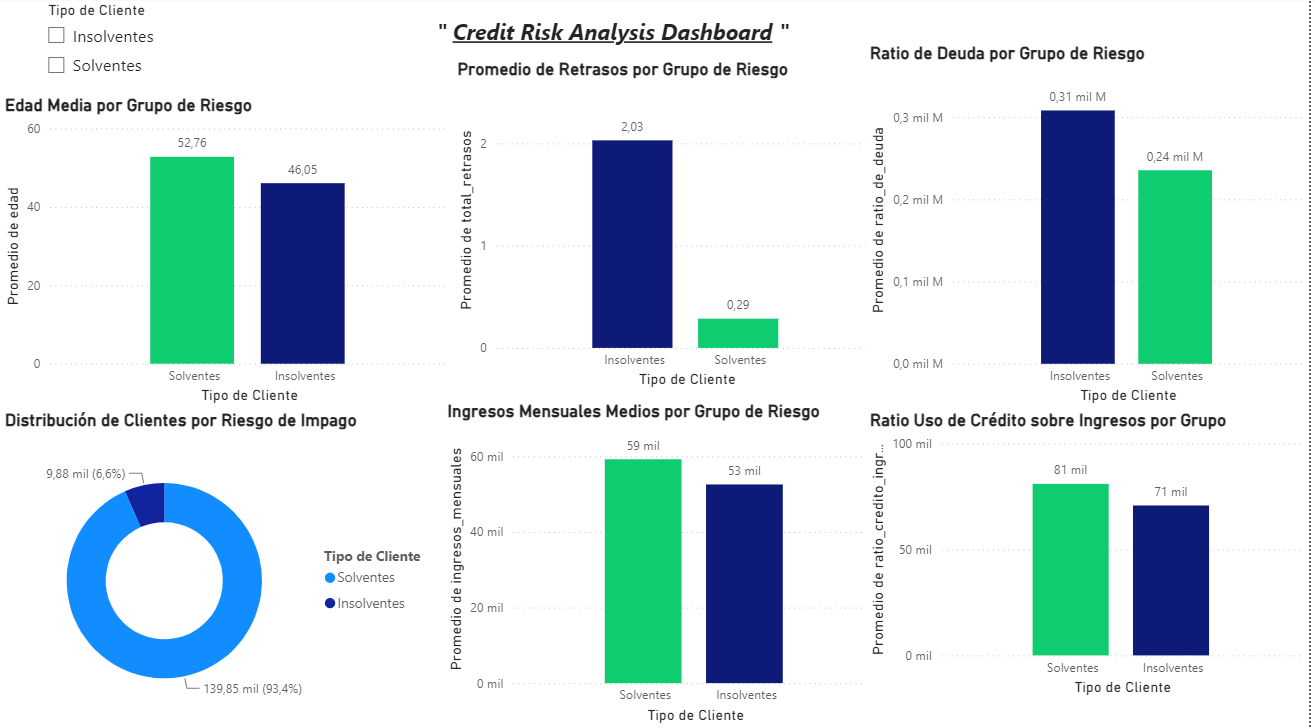

The dashboard page shown, as its layout file describes it:
{"tool":"powerbi","page":{"name":"Página 1","canvas":[1280,720],"ordinal":0},"visuals":[{"type":"donutChart","title":"Distribución de Clientes por Riesgo de Impago","fields":{"Category":["cs-training-features.Tipo de Cliente"],"Y":["CountNonNull(cs-training-features.problemas_de_pago)"]},"box":[0,404.3,432.9,315.7],"z":0},{"type":"clusteredColumnChart","title":"Edad Media por Grupo de Riesgo","fields":{"Y":["Avg(cs-training-features.edad)"],"Category":["cs-training-features.Tipo de Cliente"]},"box":[0,97.1,444.3,307.1],"z":1000},{"type":"clusteredColumnChart","title":"Promedio de Retrasos por Grupo de Riesgo","fields":{"Category":["cs-training-features.Tipo de Cliente"],"Y":["Avg(cs-training-features.total_retrasos)"]},"box":[442.9,61.4,421.4,327.1],"z":2000},{"type":"clusteredColumnChart","title":"Ingresos Mensuales Medios por Grupo de Riesgo","fields":{"Category":["cs-training-features.Tipo de Cliente"],"Y":["Avg(cs-training-features.ingresos_mensuales)"]},"box":[432.9,395.7,431.4,320],"z":3000},{"type":"clusteredColumnChart","title":"Ratio de Deuda por Grupo de Riesgo","fields":{"Category":["cs-training-features.Tipo de Cliente"],"Y":["Avg(cs-training-features.ratio_de_deuda)"]},"box":[845.7,45.7,434.3,358.6],"z":4000},{"type":"columnChart","title":"Ratio Uso de Crédito sobre Ingresos por Grupo","fields":{"Category":["cs-training-features.Tipo de Cliente"],"Y":["Avg(cs-training-features.ratio_credito_ingresos)"]},"box":[845.7,404.3,434.3,284.3],"z":5000},{"type":"textbox","box":[408.6,14.3,381.4,47.1],"z":6000},{"type":"slicer","fields":{"Values":["cs-training-features.Tipo de Cliente"]},"box":[34.3,0,240,87.1],"z":6001}]}

Visuals, with their boxes in screenshot pixels (x1, y1, x2, y2), scaled from the page's 1280x720 canvas onto the 1315x728 screenshot:
"Distribución de Clientes por Riesgo de Impago" donutChart: <box>0,409,445,727</box>
"Edad Media por Grupo de Riesgo" clusteredColumnChart: <box>0,98,456,409</box>
"Promedio de Retrasos por Grupo de Riesgo" clusteredColumnChart: <box>455,62,888,393</box>
"Ingresos Mensuales Medios por Grupo de Riesgo" clusteredColumnChart: <box>445,400,888,724</box>
"Ratio de Deuda por Grupo de Riesgo" clusteredColumnChart: <box>869,46,1314,409</box>
"Ratio Uso de Crédito sobre Ingresos por Grupo" columnChart: <box>869,409,1314,696</box>
textbox: <box>420,14,812,62</box>
slicer - cs-training-features.Tipo de Cliente: <box>35,0,282,88</box>
